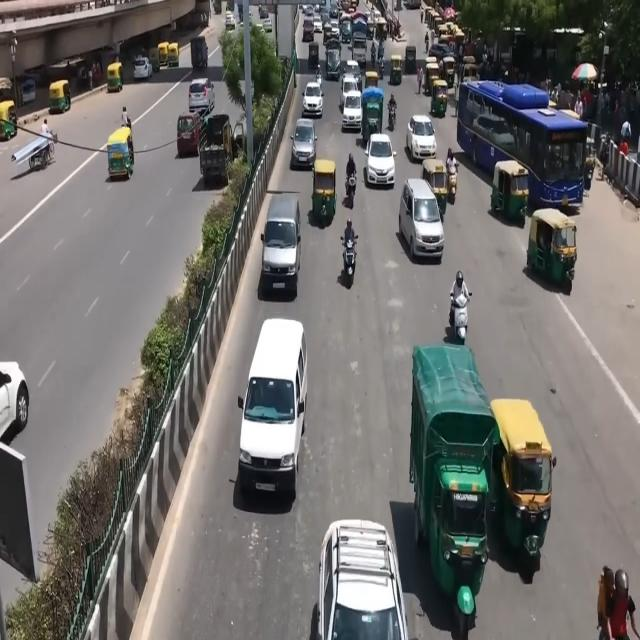auto: (488, 396, 555, 556), (526, 206, 578, 291), (490, 160, 530, 224), (421, 157, 450, 221), (106, 126, 135, 182), (312, 160, 336, 226), (49, 80, 71, 113), (430, 79, 449, 117), (441, 24, 465, 51), (0, 100, 16, 139), (425, 61, 441, 97), (441, 54, 457, 89), (106, 62, 124, 93), (389, 52, 403, 86), (462, 58, 479, 83), (157, 42, 170, 68), (167, 42, 180, 67), (423, 6, 436, 28)
bike-auto: (449, 270, 471, 336), (342, 219, 358, 265), (41, 118, 54, 163), (345, 153, 357, 198), (446, 147, 458, 175), (388, 93, 397, 122), (417, 65, 424, 95), (370, 41, 376, 66), (424, 32, 429, 53)
